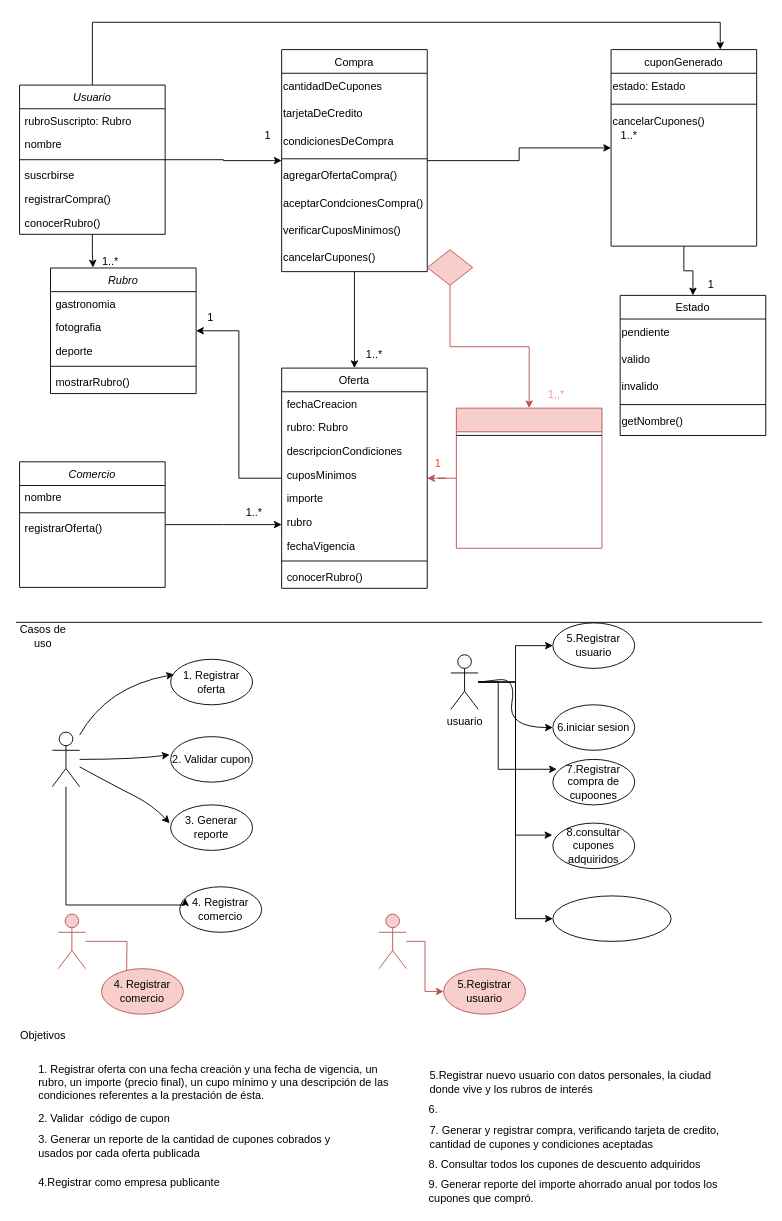
Some shapes in this 782 by 1221 pixel diagram are drawn without their labels. The shapes that lost their labels are listed below. From the top down, each one's centre as x and y in pixels, then its label:
At point 528,477: "DetalleCompra".
At point 65,759: "Comercio adherido".
At point 611,918: "9.generar reporte del importe ahorrado".
At point 71,941: "comercio interesado".
At point 392,941: "interesado".
